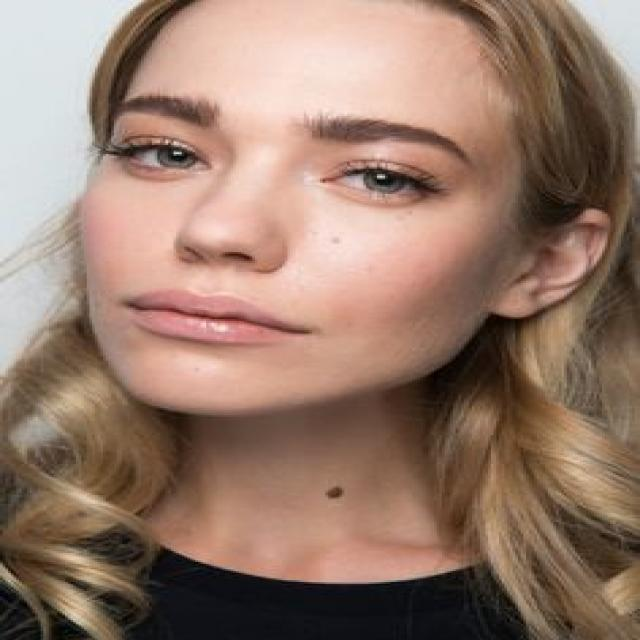earlobe: (490, 277, 546, 320)
eye: (320, 163, 438, 198), (116, 139, 212, 175)
nose: (167, 243, 269, 289)
wholeear: (491, 208, 612, 320)
